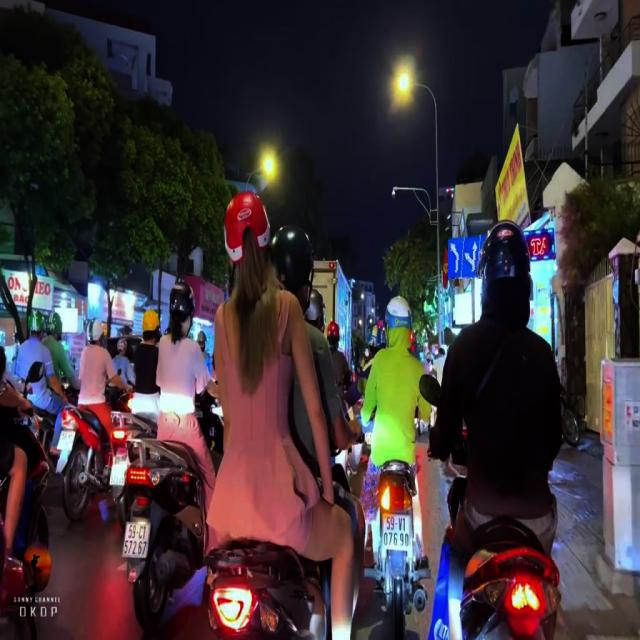huong_di_tren_moi_lan_duong_theo_vach_ke_duong: (448, 235, 486, 279)
